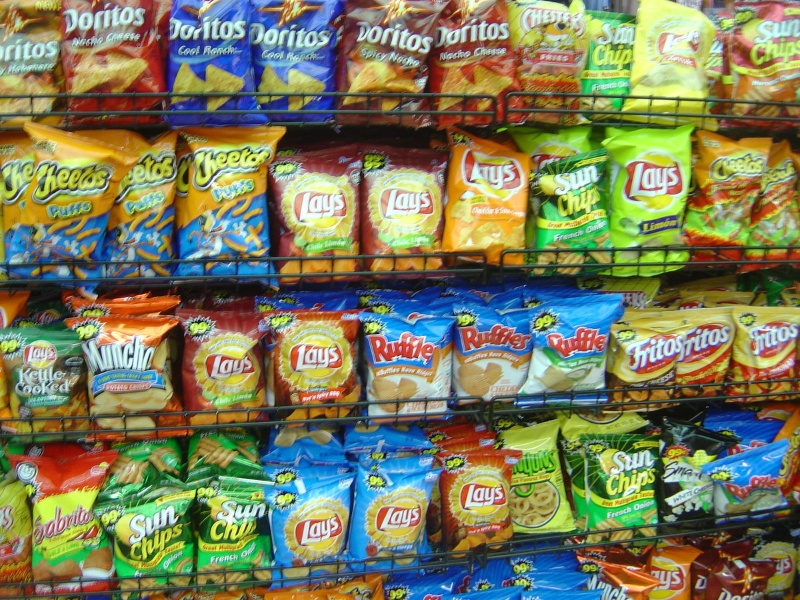chips: (9, 455, 111, 595), (74, 311, 189, 433), (185, 129, 274, 282), (61, 1, 169, 125), (19, 129, 103, 282), (267, 149, 366, 276), (101, 124, 178, 285), (428, 1, 524, 127), (608, 127, 691, 270), (341, 1, 435, 127), (172, 1, 267, 125), (443, 130, 527, 264), (268, 311, 367, 422), (633, 1, 717, 129), (360, 149, 446, 274), (179, 309, 273, 420), (253, 1, 338, 121), (114, 480, 200, 597), (361, 313, 455, 416), (269, 469, 357, 578), (3, 327, 89, 437), (532, 155, 614, 269), (505, 428, 584, 542), (511, 1, 583, 125), (695, 133, 759, 267), (355, 457, 433, 565), (436, 448, 515, 554), (527, 303, 611, 401), (727, 1, 790, 128), (581, 437, 659, 539), (453, 304, 533, 402), (199, 478, 270, 581), (609, 316, 680, 405), (735, 305, 800, 399), (710, 449, 797, 517), (674, 311, 736, 403), (657, 433, 720, 523)
